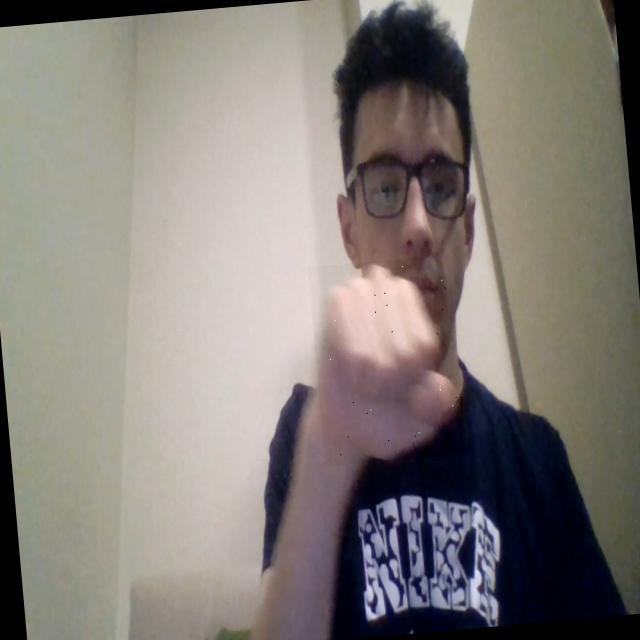yes: (308, 255, 467, 466)
